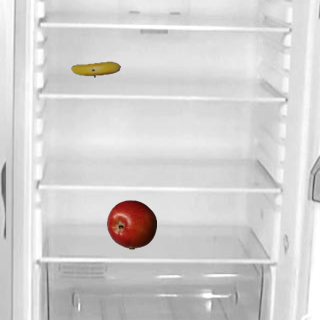Apple Braeburn: (106, 199, 156, 249)
Banana: (70, 44, 120, 94)
